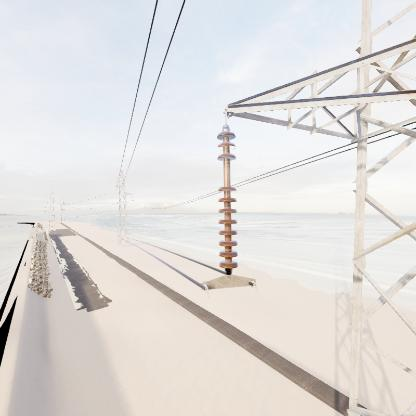insulator: (213, 126, 244, 275)
